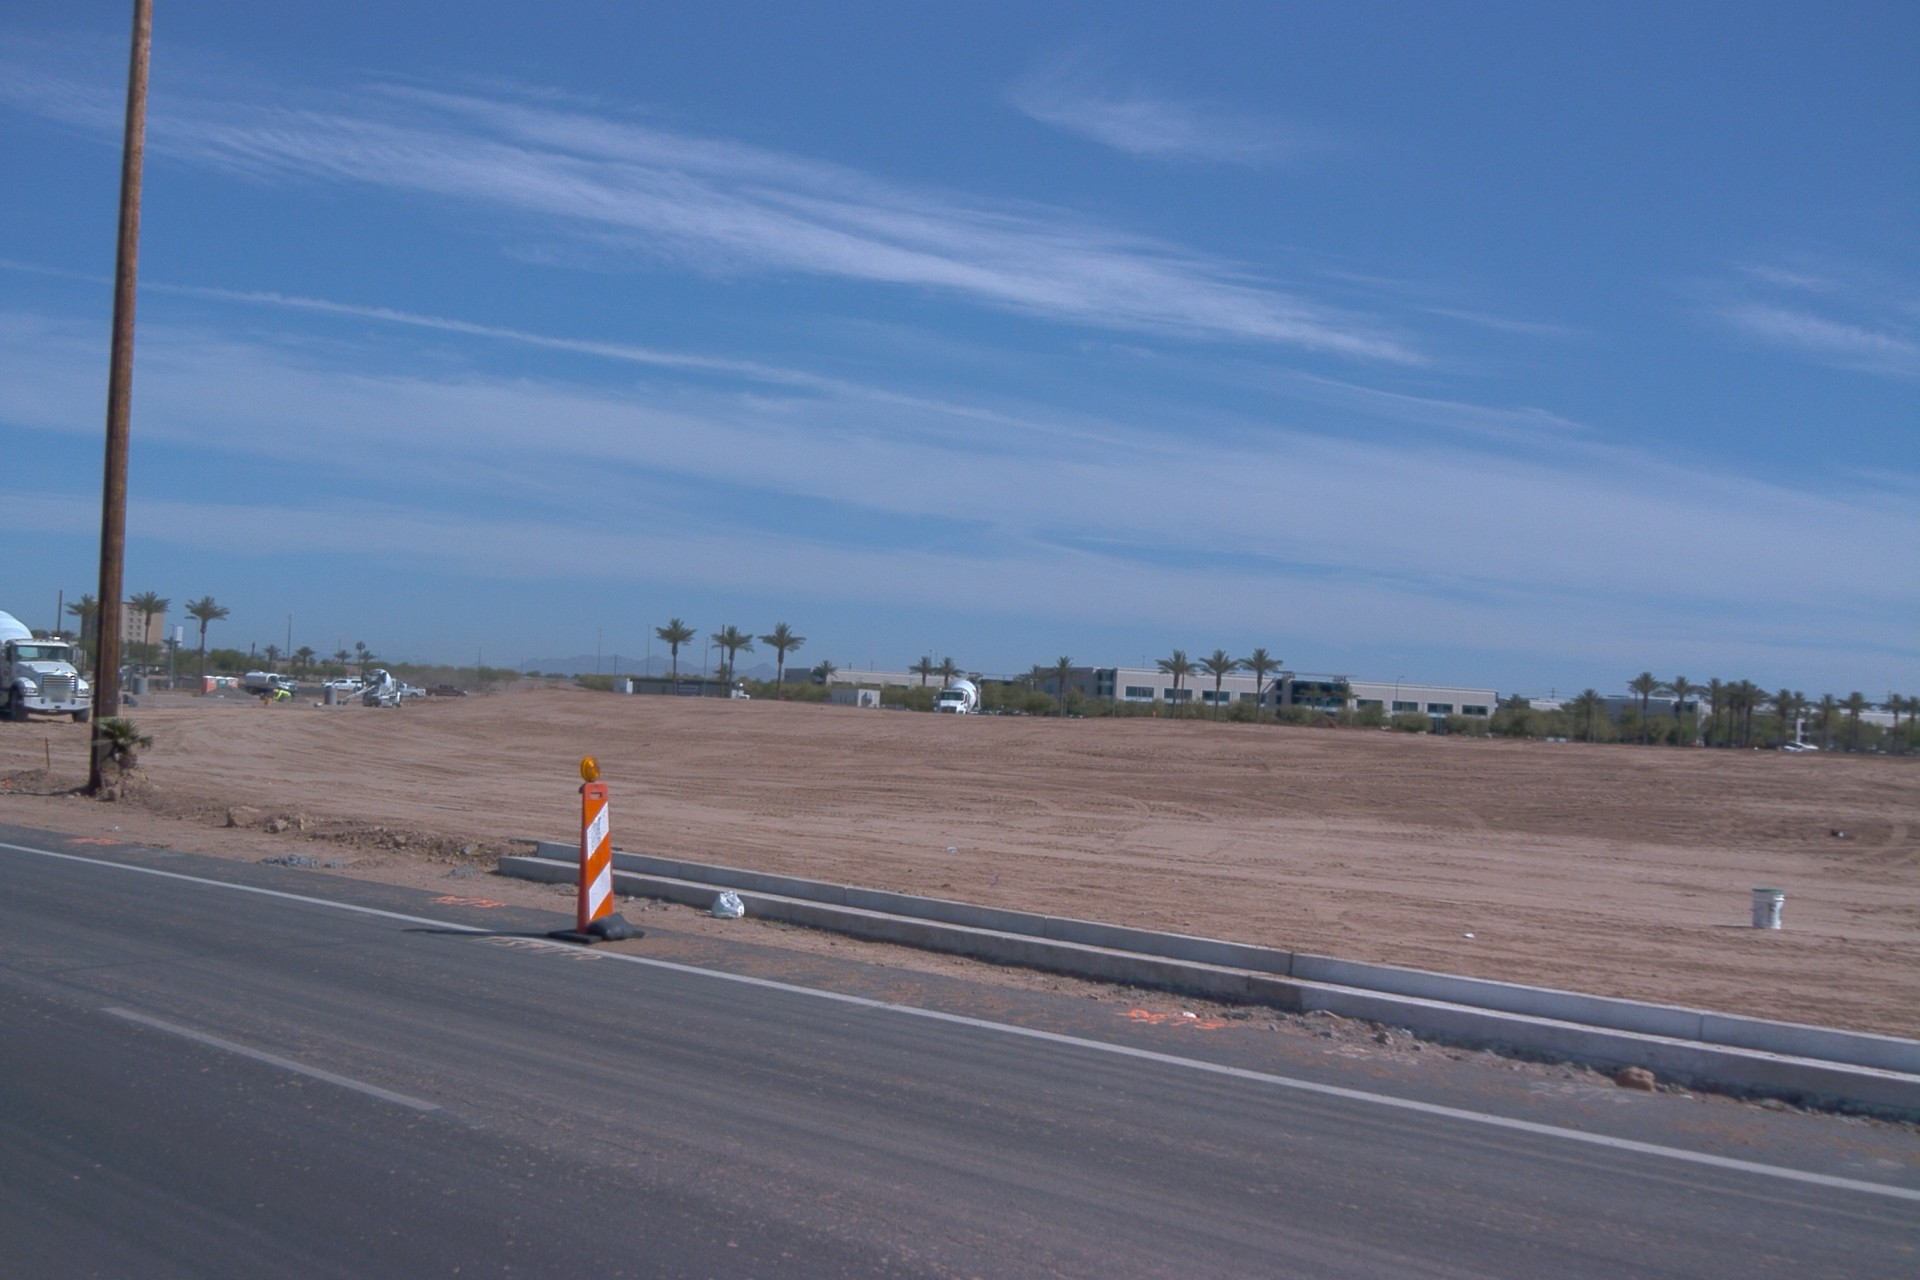TYPE_PEDESTRIAN: (271, 687, 292, 704)
TYPE_VEHICLE: (1, 608, 96, 725), (345, 667, 403, 711), (930, 678, 981, 719), (244, 672, 301, 699), (84, 669, 133, 692), (319, 676, 368, 694), (426, 681, 468, 698), (423, 683, 472, 697), (394, 681, 427, 698)
